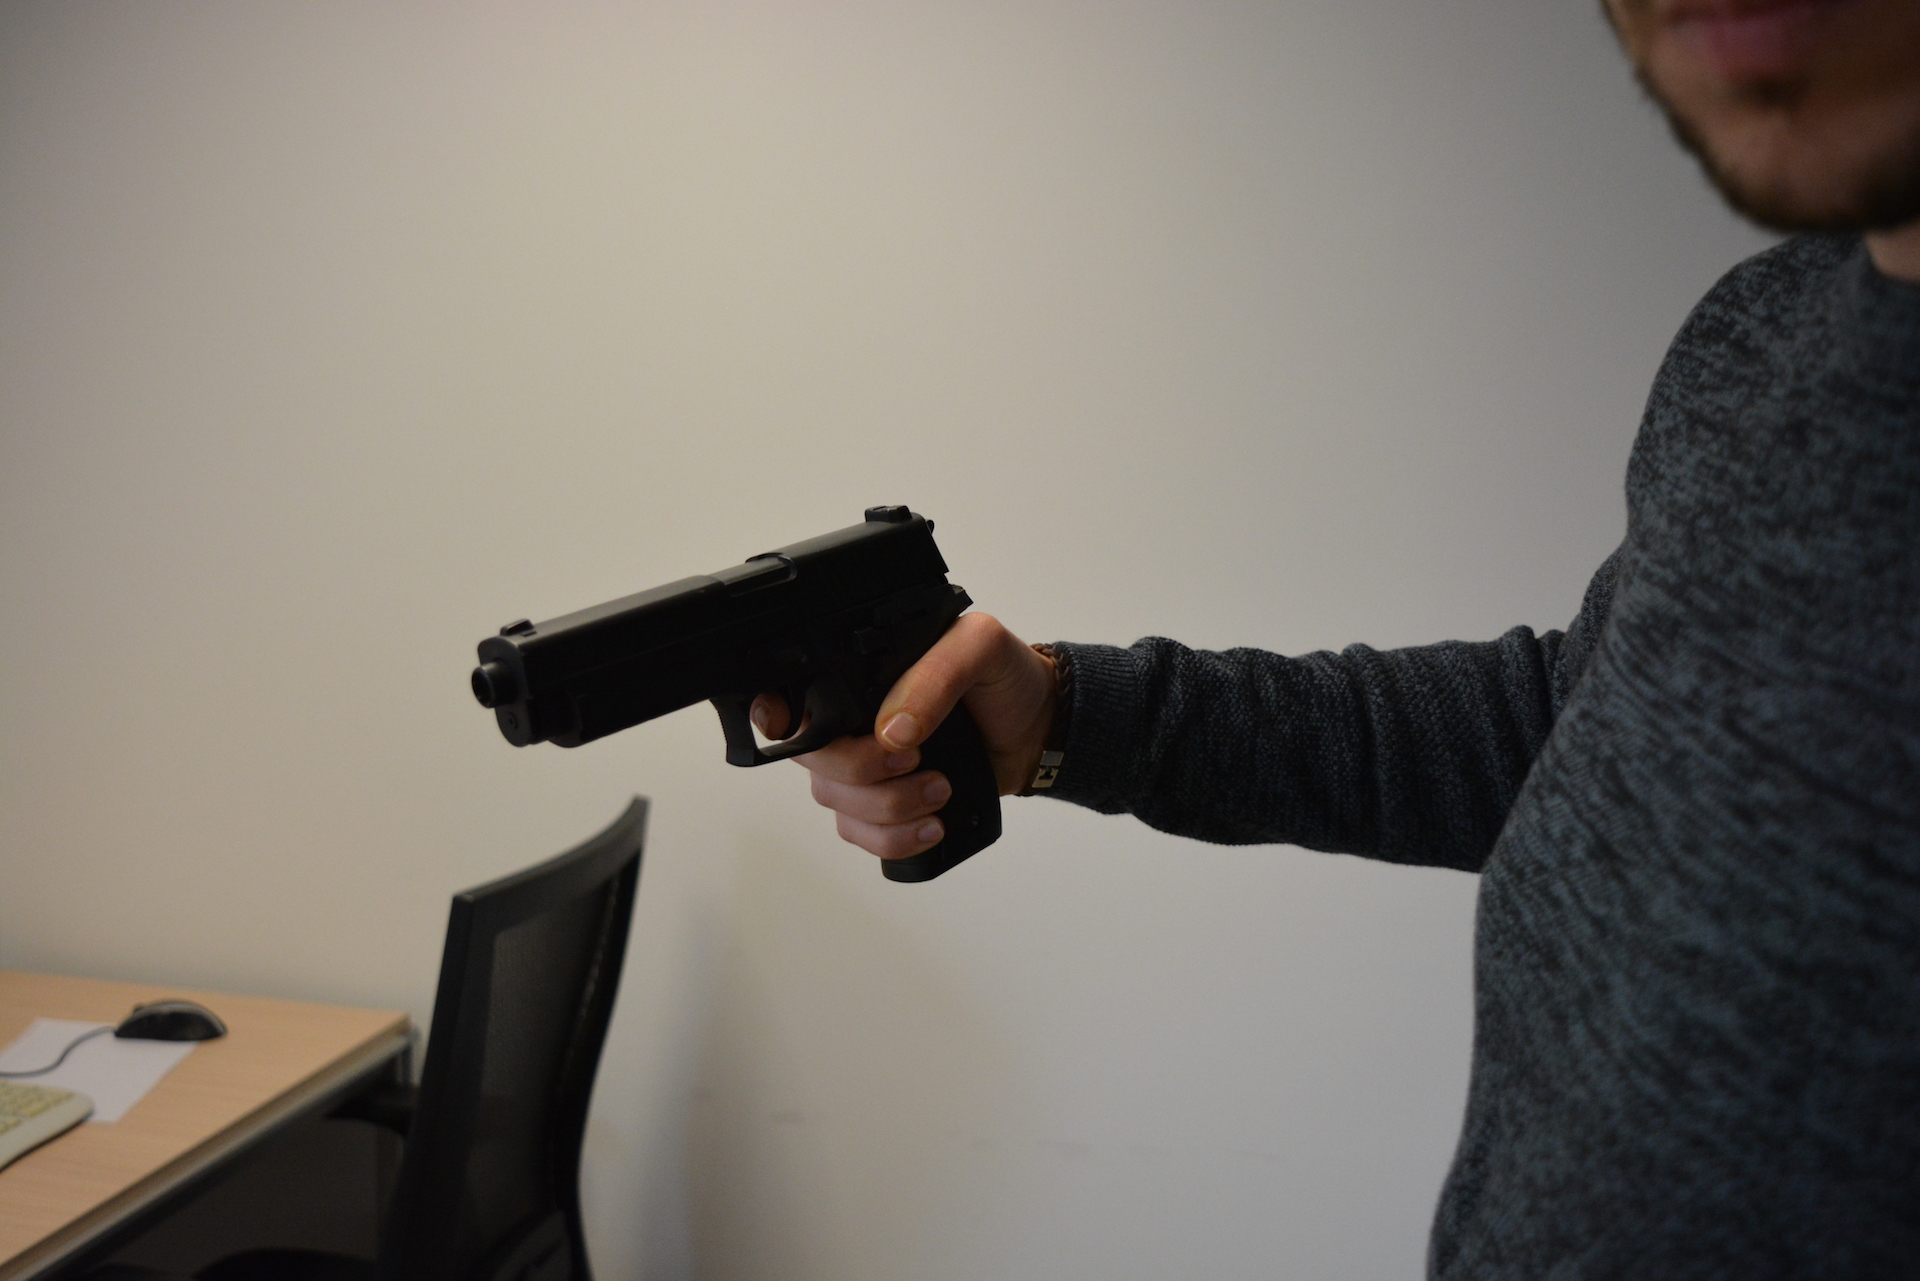pistol: (469, 500, 1005, 886)
